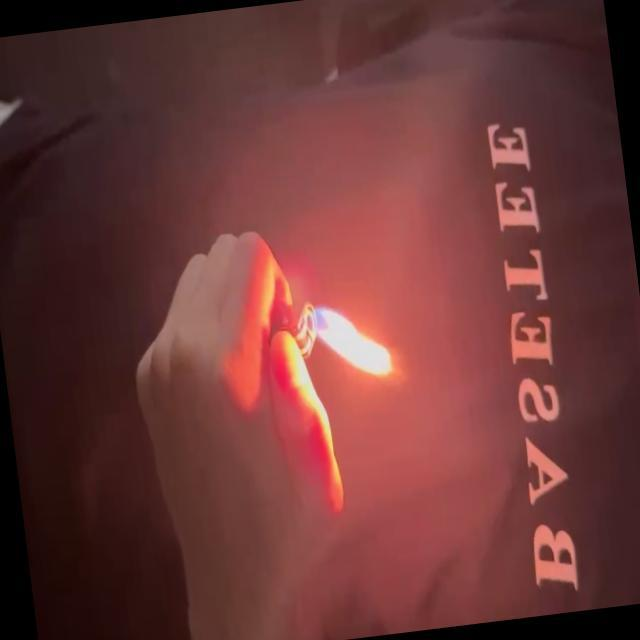Fire: (302, 293, 399, 386)
